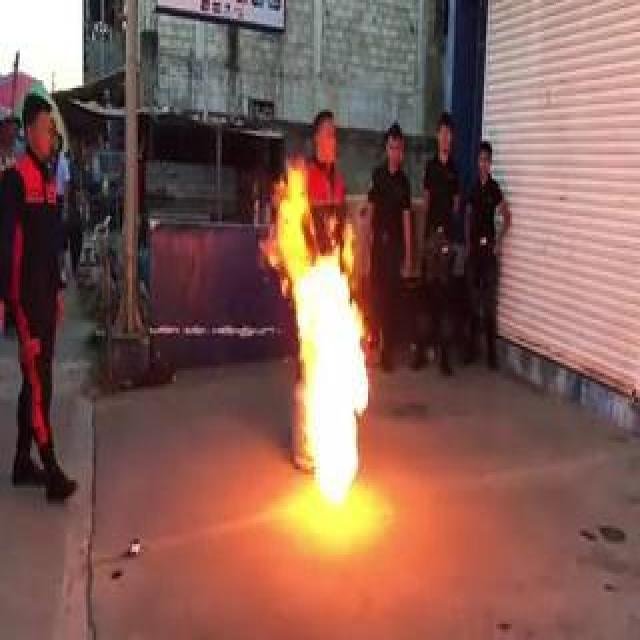Fire: (264, 200, 386, 501)
